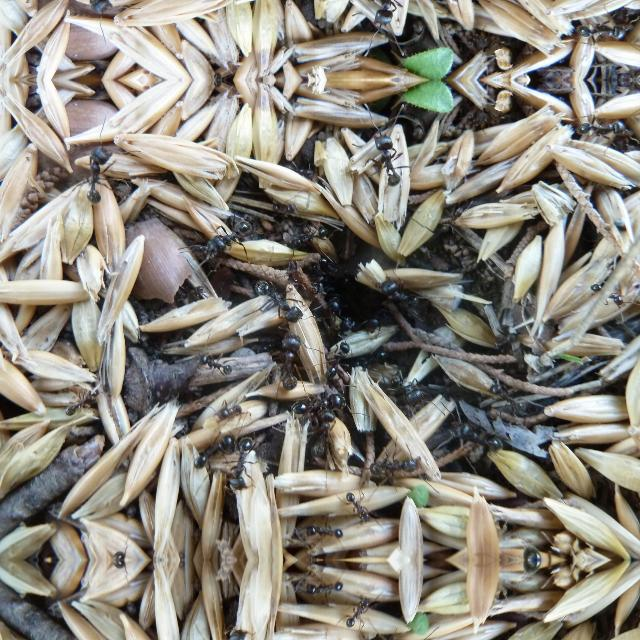Messor: (185, 218, 262, 268), (366, 124, 412, 198), (74, 142, 120, 198), (486, 372, 530, 424), (46, 382, 106, 420), (574, 15, 636, 50), (370, 446, 424, 486), (574, 110, 636, 144), (454, 417, 501, 461), (376, 278, 422, 318), (182, 433, 232, 469), (291, 394, 347, 426), (390, 380, 434, 418), (366, 0, 411, 36), (343, 484, 377, 530), (343, 590, 377, 636), (198, 349, 238, 383), (230, 440, 258, 488), (589, 282, 629, 312), (306, 514, 340, 548), (306, 572, 340, 606), (329, 292, 355, 331), (327, 338, 351, 380), (297, 223, 331, 251), (215, 396, 247, 424), (267, 198, 299, 226), (73, 0, 120, 18), (290, 158, 314, 182)
